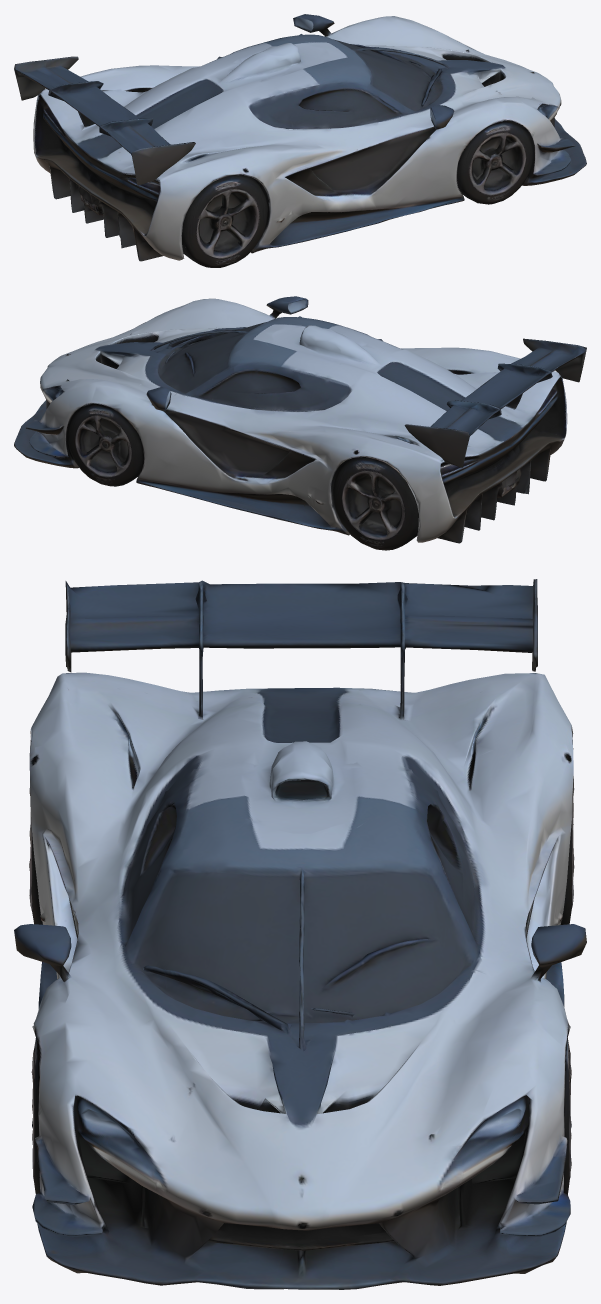
File: car3d_hyper.glb
3 renders of one model, top to bottom at view 1: azimuth 30°, elevation 25°; view 2: azimuth 150°, elevation 25°; view 3: azimuth 270°, elevation 25°, orthographic. The views are drawn at different scales.
Visible parts, largest first — view 1: tripo_node_aa4bd5c8-71c1-4292-9198-1073f6a2d0a0; view 2: tripo_node_aa4bd5c8-71c1-4292-9198-1073f6a2d0a0; view 3: tripo_node_aa4bd5c8-71c1-4292-9198-1073f6a2d0a0.
Boxes of the visible parts, <box> form: tripo_node_aa4bd5c8-71c1-4292-9198-1073f6a2d0a0: <box>14,14,586,267</box>; tripo_node_aa4bd5c8-71c1-4292-9198-1073f6a2d0a0: <box>14,296,586,550</box>; tripo_node_aa4bd5c8-71c1-4292-9198-1073f6a2d0a0: <box>14,579,586,1289</box>.
Bounding box in the file's own units: 1 × 0.2916 × 0.5212.
1 material, 1 textured.
